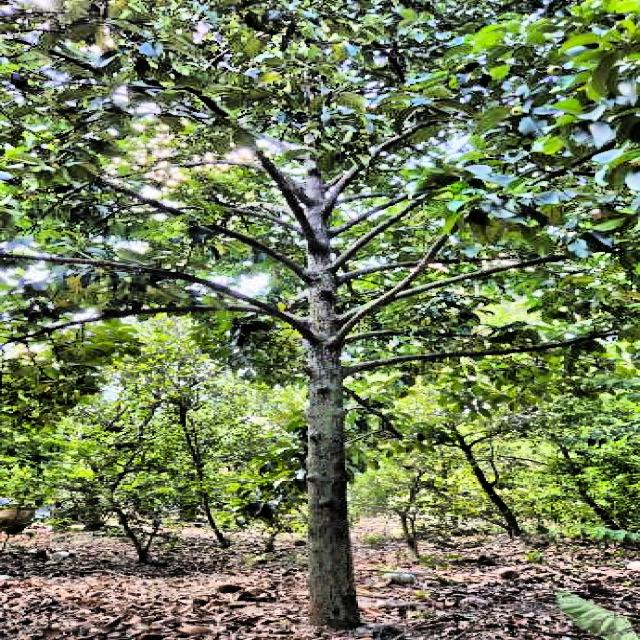arvore: (255, 136, 391, 640)
